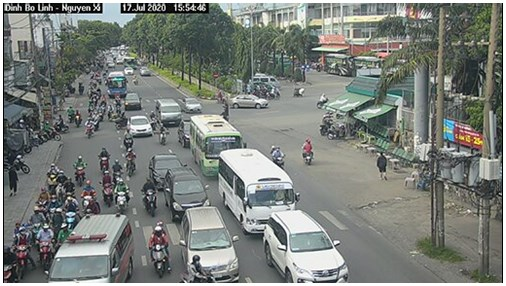di_bo: (6, 164, 19, 200), (376, 147, 389, 183)
xe_buyt: (190, 115, 246, 175), (107, 70, 127, 98)
xe_cuu_thuong: (46, 215, 133, 283)
xe_hoi: (265, 211, 351, 283), (179, 207, 242, 282), (163, 168, 210, 220), (148, 153, 186, 189), (230, 91, 269, 110), (128, 114, 151, 137)
xe_khach: (219, 148, 297, 233), (156, 97, 182, 123)
xe_may: (12, 223, 34, 280), (150, 220, 171, 278), (35, 223, 55, 269), (81, 179, 102, 213), (142, 175, 158, 215), (114, 178, 131, 215), (101, 169, 114, 207), (124, 146, 139, 177), (301, 135, 315, 168), (73, 151, 87, 182), (96, 144, 112, 171), (46, 161, 59, 190), (156, 123, 168, 146), (35, 187, 48, 207), (83, 117, 95, 138), (123, 127, 133, 147), (73, 108, 81, 128)
